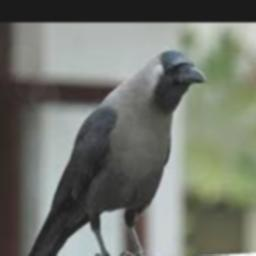Crow: (22, 49, 206, 256)
